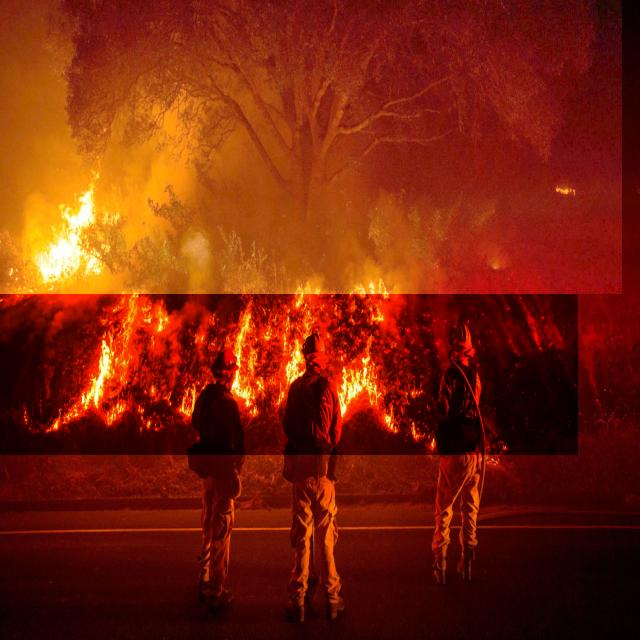Fire: (0, 185, 578, 455)
Smoke: (0, 0, 622, 294)
